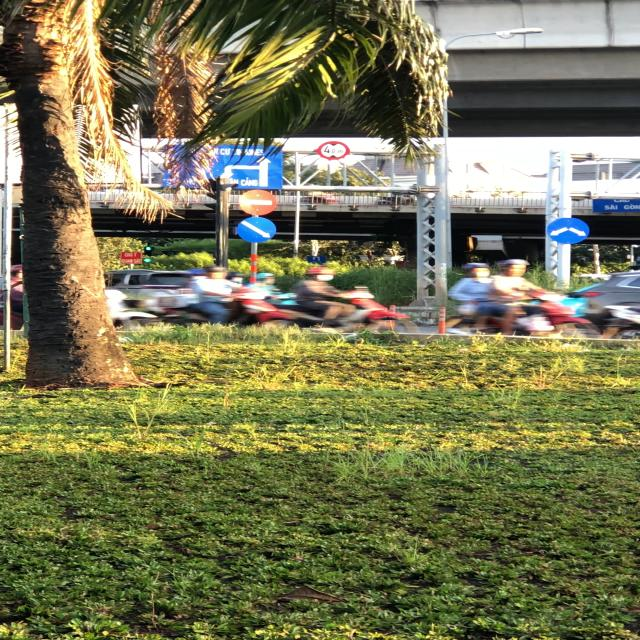Bien bao cam di nguoc chieu: (234, 189, 279, 215)
Bien bao han che chieu cao: (316, 139, 351, 160)
Bien bao huong phai di vong chuong ngai vat: (544, 215, 596, 245), (237, 217, 280, 245)
